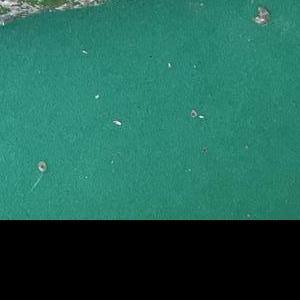Macho: (111, 116, 123, 127)
